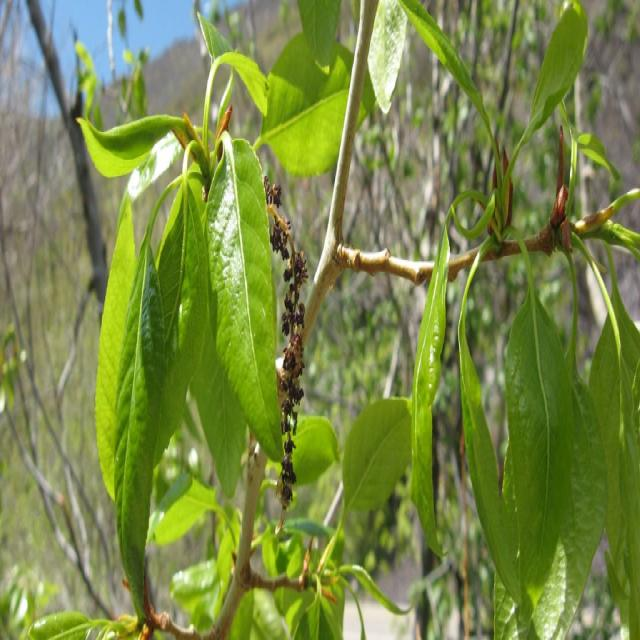Populus angustifolia: (81, 63, 289, 587), (409, 224, 640, 614)
